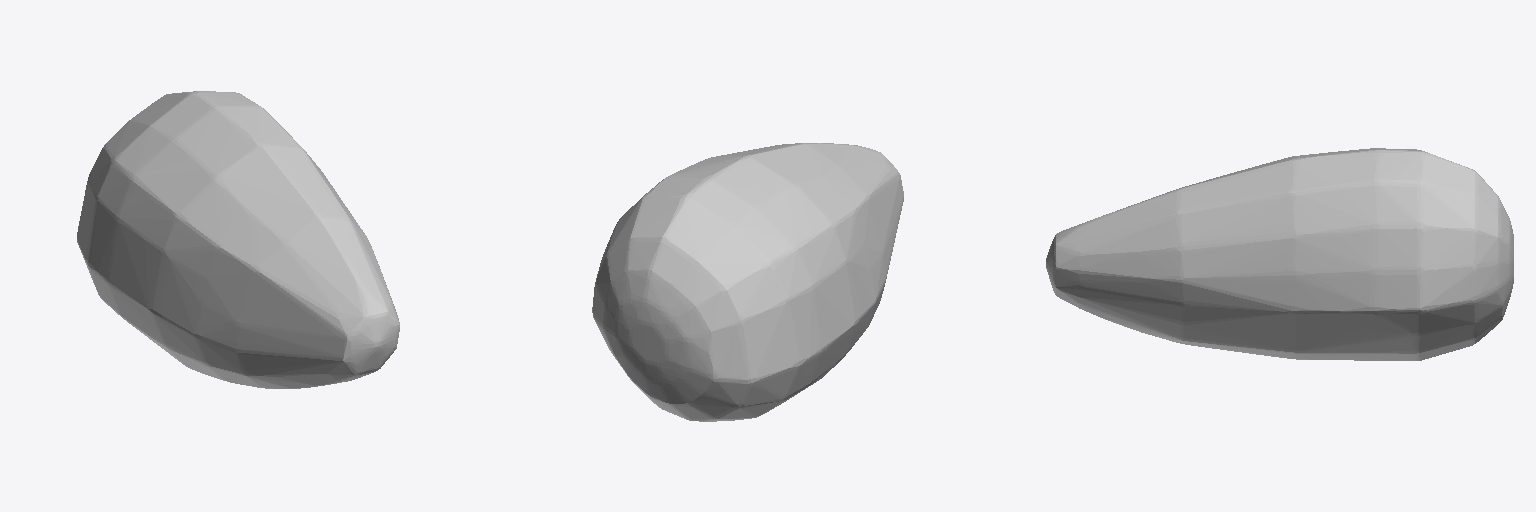
Rendered from Lettuce_7_collision_0.obj.
The picture shows the model from 3 angles: view 1: azimuth 30°, elevation 25°; view 2: azimuth 150°, elevation 25°; view 3: azimuth 270°, elevation 25°; orthographic projection.
Bounding box in the file's own units: 0.1223 × 0.1281 × 0.2461.